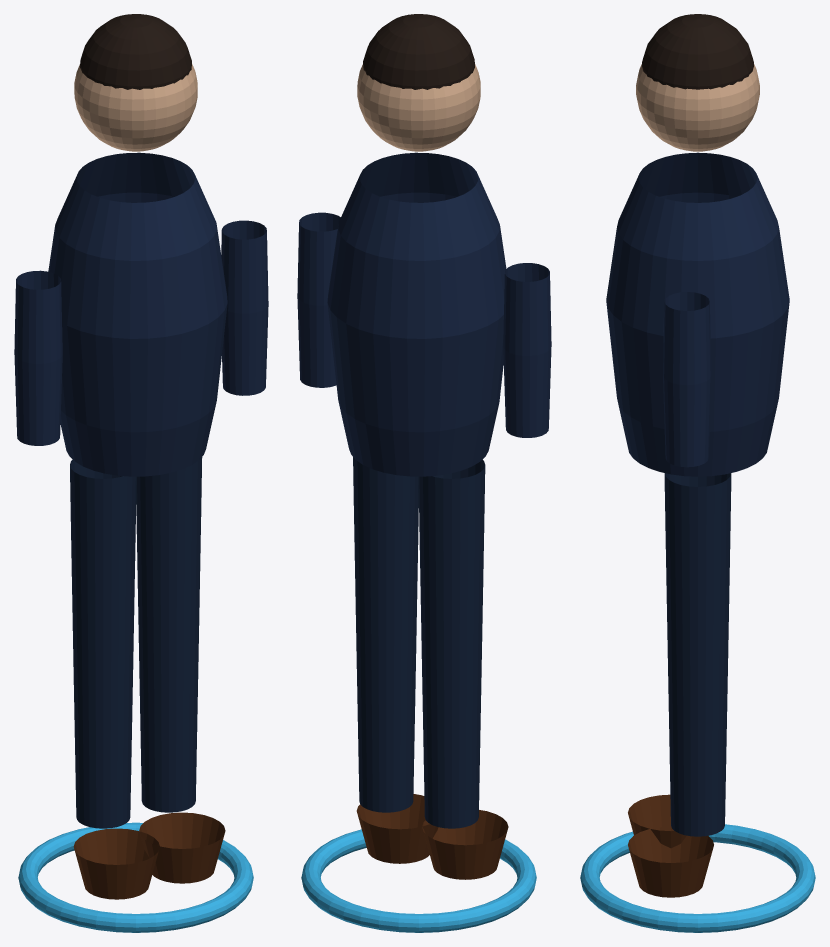
File: companion_mobile.obj
3 views of the same model, side by side, from view 1: azimuth 30°, elevation 25°; view 2: azimuth 150°, elevation 25°; view 3: azimuth 270°, elevation 25° (orthographic).
Size of the model in its own units: 0.53 by 1.77 by 0.436.
